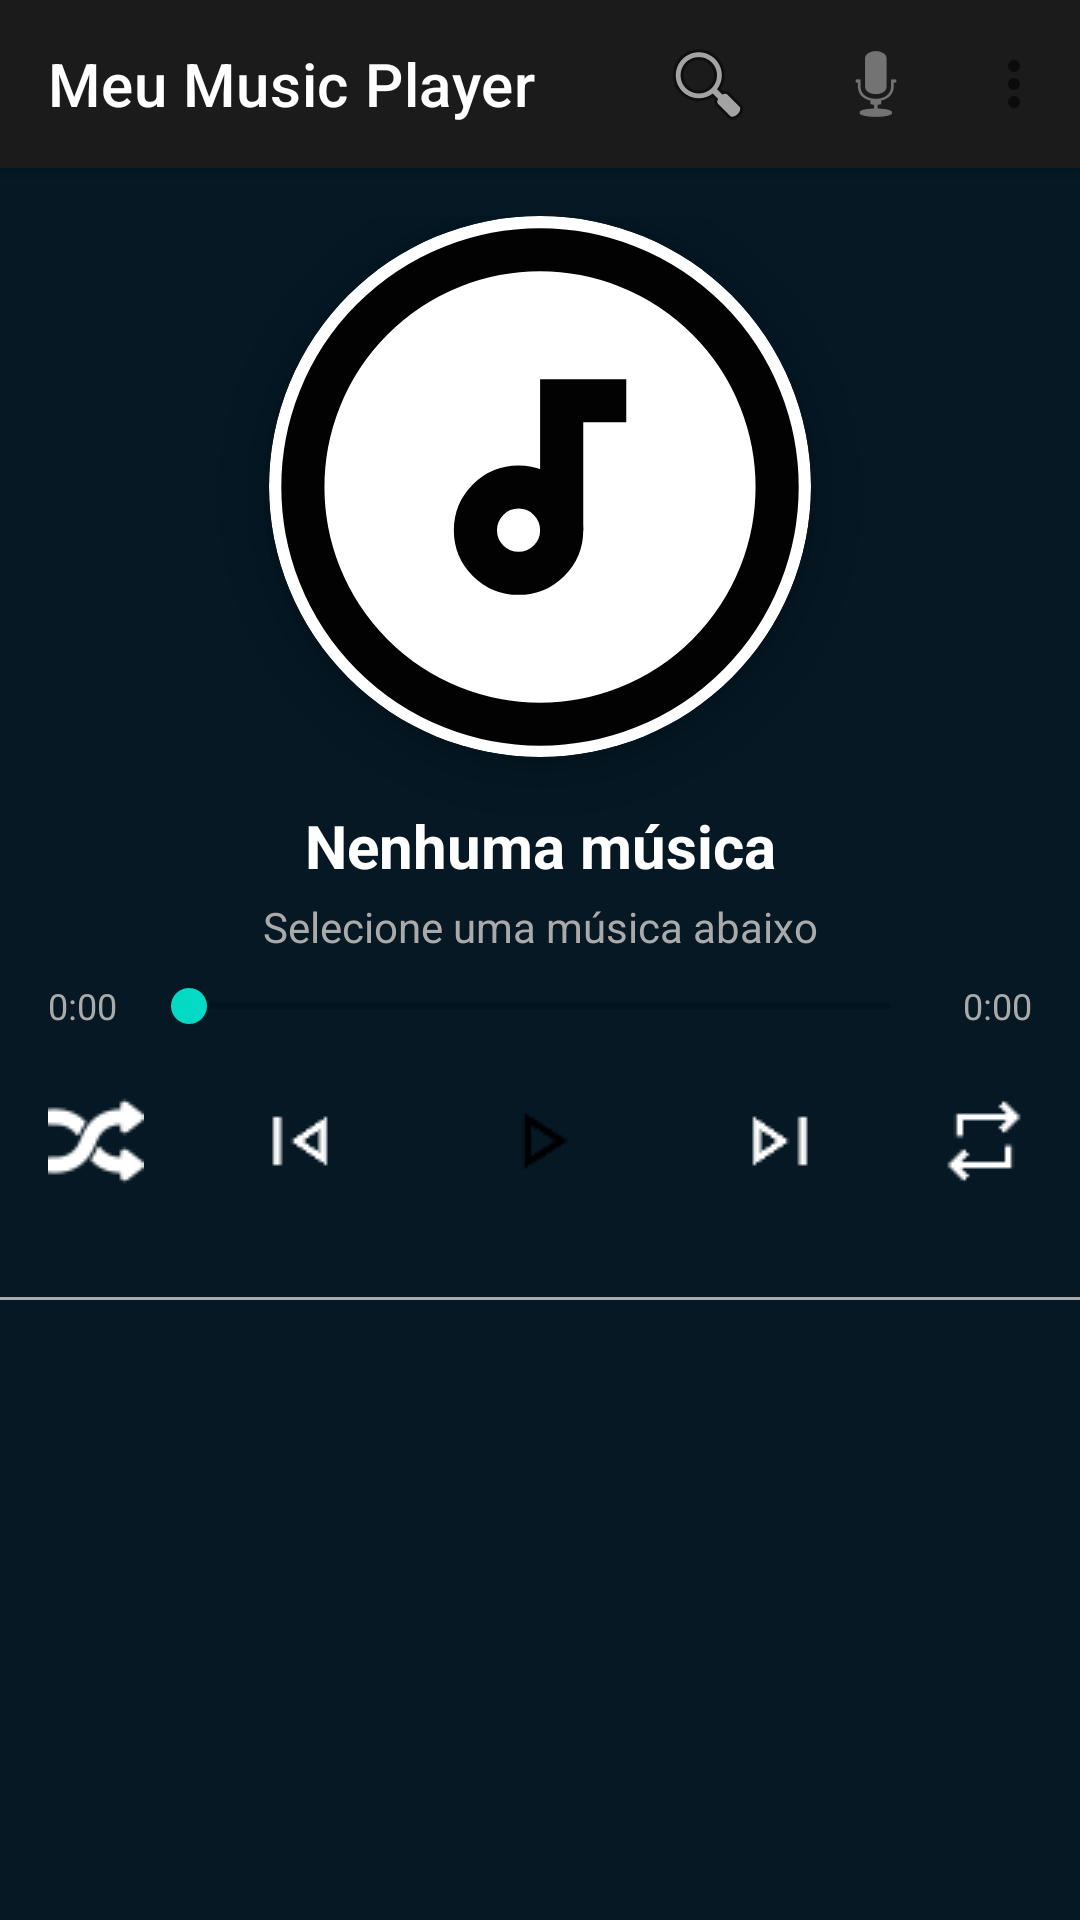

Icons on this 1080px×1920px Android screen, each with the point to tap as (x,y):
next: (780,1141)
play: (545,1141)
previous: (300,1141)
